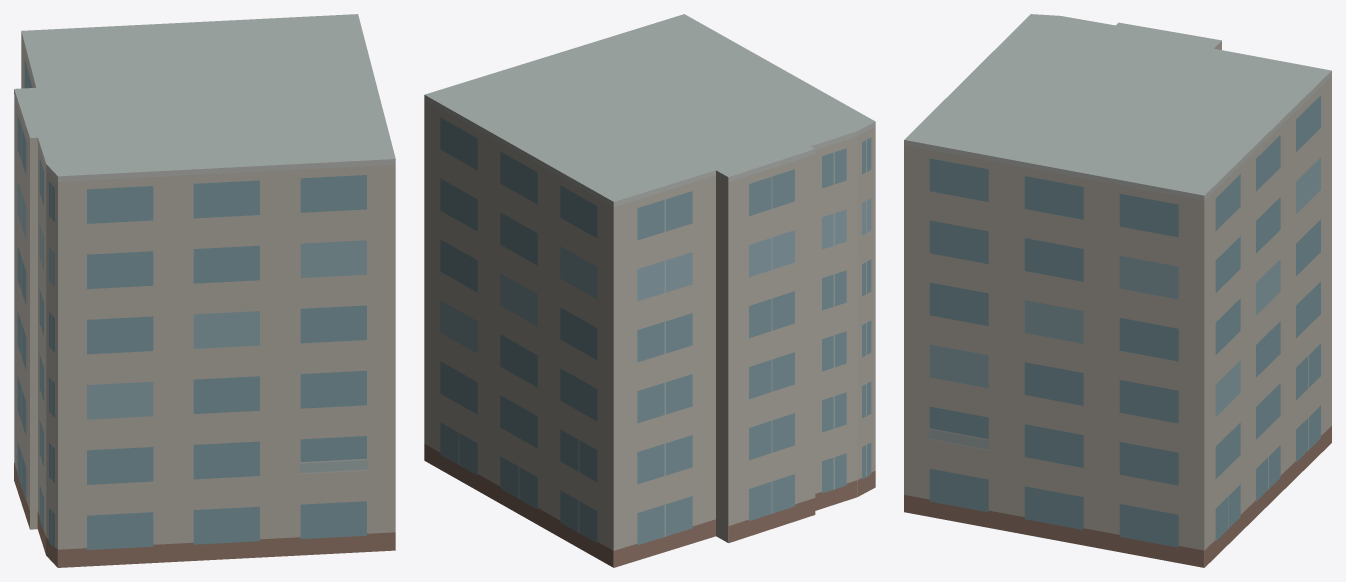
The model's file is survey-upis-32564496.glb.
3 renders of one model, left to right at view 1: azimuth 30°, elevation 25°; view 2: azimuth 150°, elevation 25°; view 3: azimuth 270°, elevation 25°, orthographic. The views are drawn at different scales.
Parts seen in each view (by area): view 1: survey-upis-32564496.tmp; view 2: survey-upis-32564496.tmp; view 3: survey-upis-32564496.tmp.
Boxes of the visible parts, <box> form: survey-upis-32564496.tmp: <box>14,14,395,567</box>; survey-upis-32564496.tmp: <box>424,14,875,567</box>; survey-upis-32564496.tmp: <box>904,14,1331,567</box>.
Bounding box in the file's own units: 18.22 × 17.4 × 18.13.
